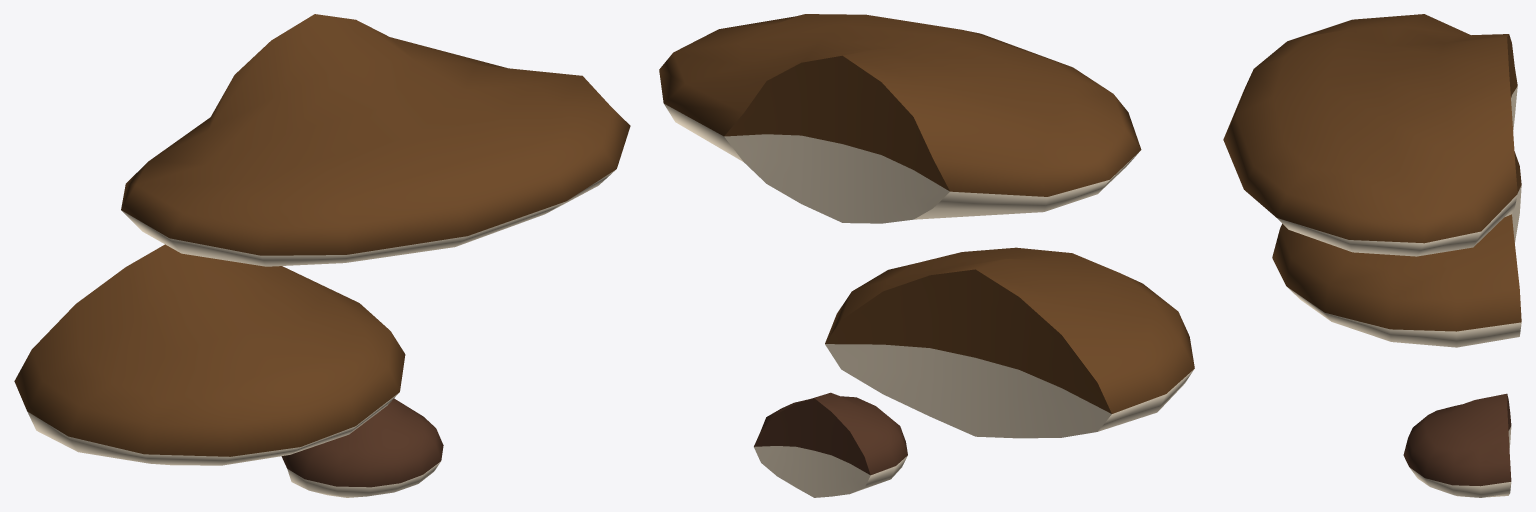
Rendered from Artists_Conk_Group_2.fbx.
3 renders of one model, left to right at view 1: azimuth 30°, elevation 25°; view 2: azimuth 150°, elevation 25°; view 3: azimuth 270°, elevation 25°, orthographic. The views are drawn at different scales.
Visible parts, largest first — view 1: Artists_Conk_Group_2; view 2: Artists_Conk_Group_2; view 3: Artists_Conk_Group_2.
Boxes of the visible parts, <box> form: Artists_Conk_Group_2: <box>14,14,630,497</box>; Artists_Conk_Group_2: <box>659,14,1194,497</box>; Artists_Conk_Group_2: <box>1223,14,1521,497</box>.
Size of the model in its own units: 88.42 by 72.5 by 44.51.
Materials: 1 (1 with a texture image).
